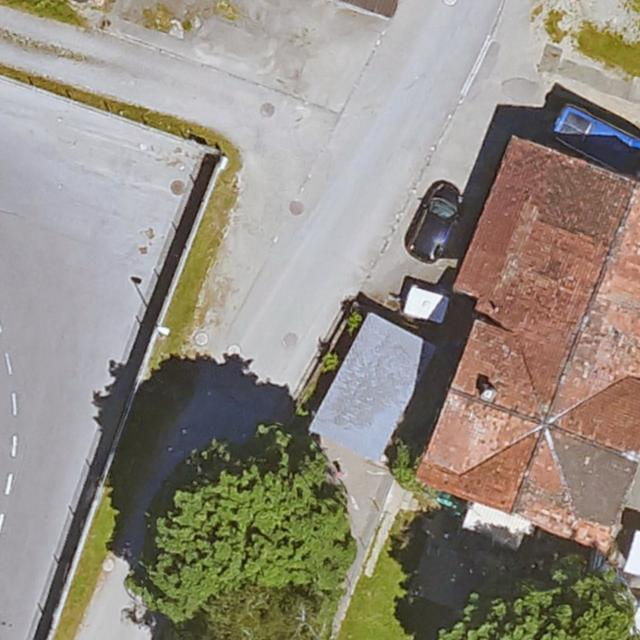tree: (141, 451, 347, 615), (419, 573, 639, 640), (187, 588, 333, 640)
